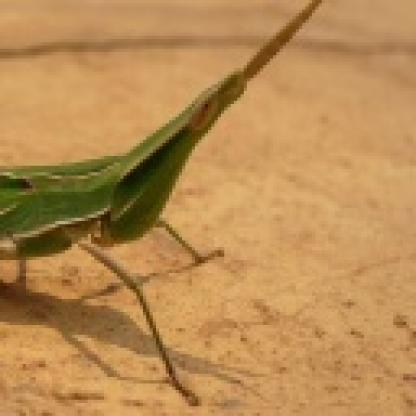grasshopper: (0, 5, 319, 404)
